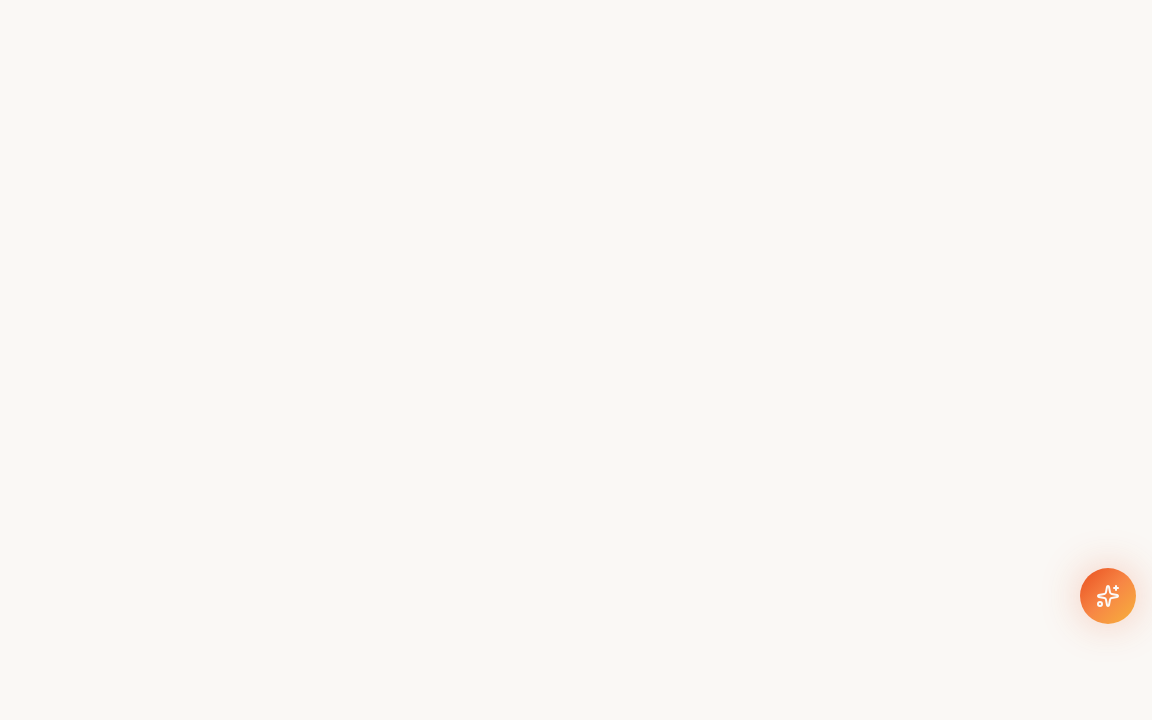
Scenario: Copilot chat answers a question grounded in live data
// Opens from the floating trigger, then a suggestion chip sends a question.
Click the button named "Ouvrir le copilote IA".
click(1108, 596)  # box [1080,568,1136,624]
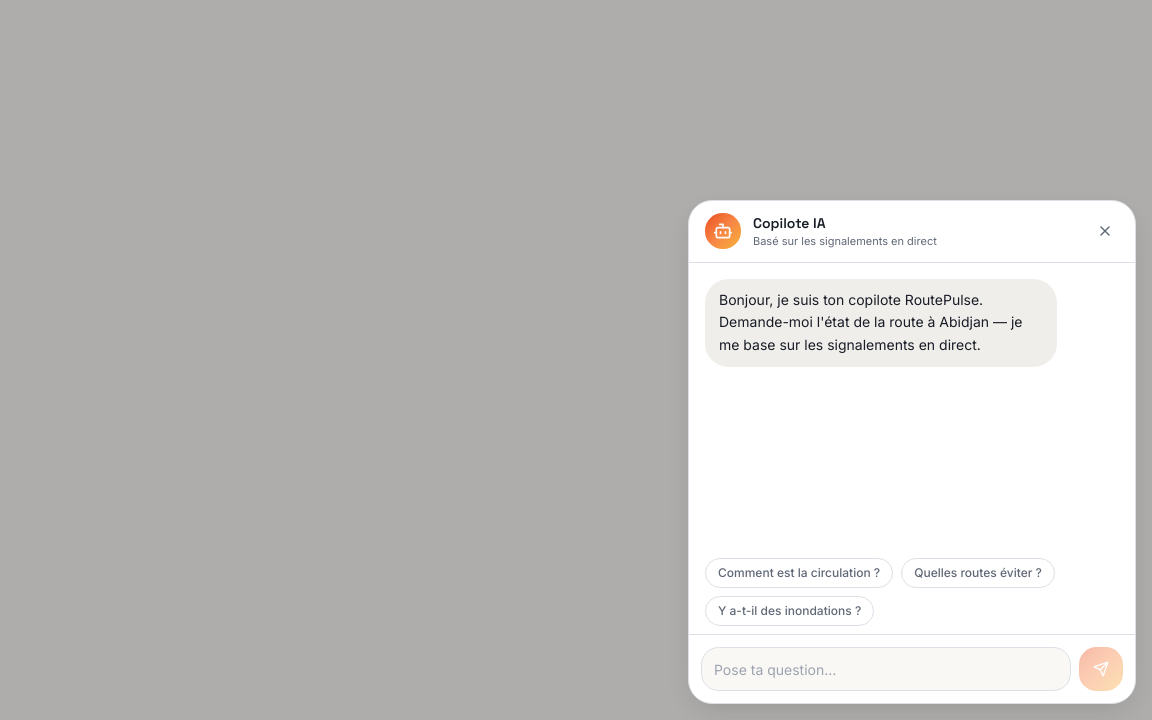
Click the button "Quelles routes éviter ?".
click(978, 573)  # box [901,558,1055,588]
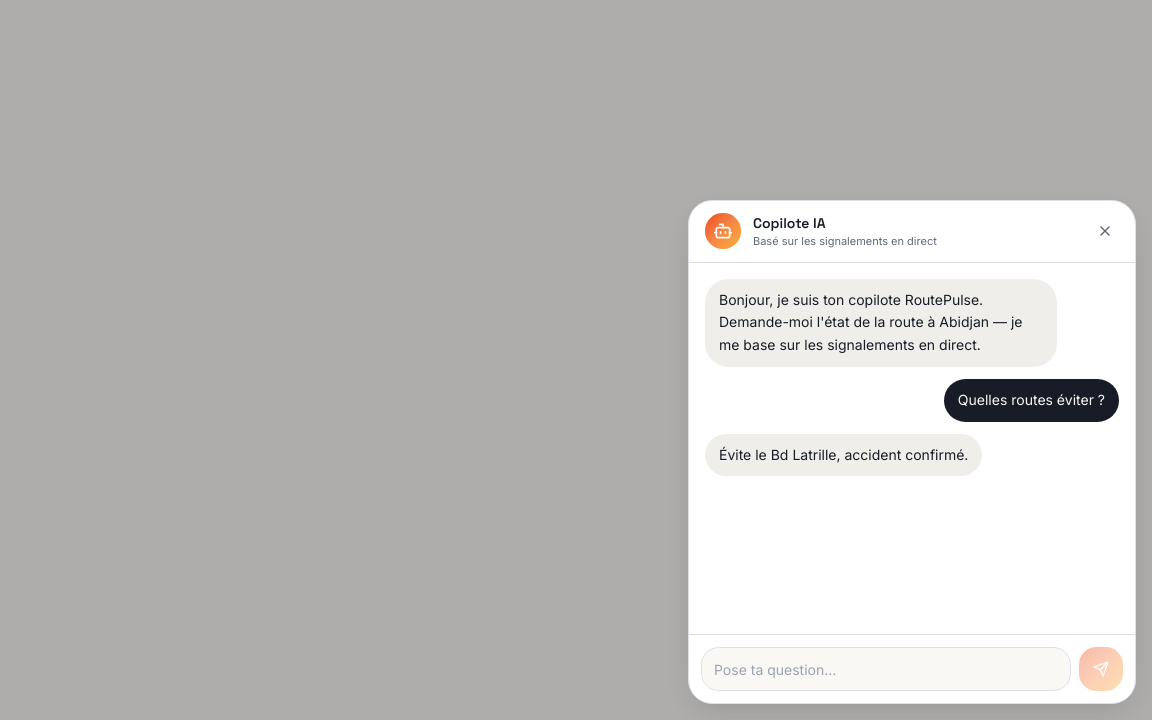
expect the text "Évite le Bd Latrille, accident confirmé." is shown: met, box [705,434,982,476]
